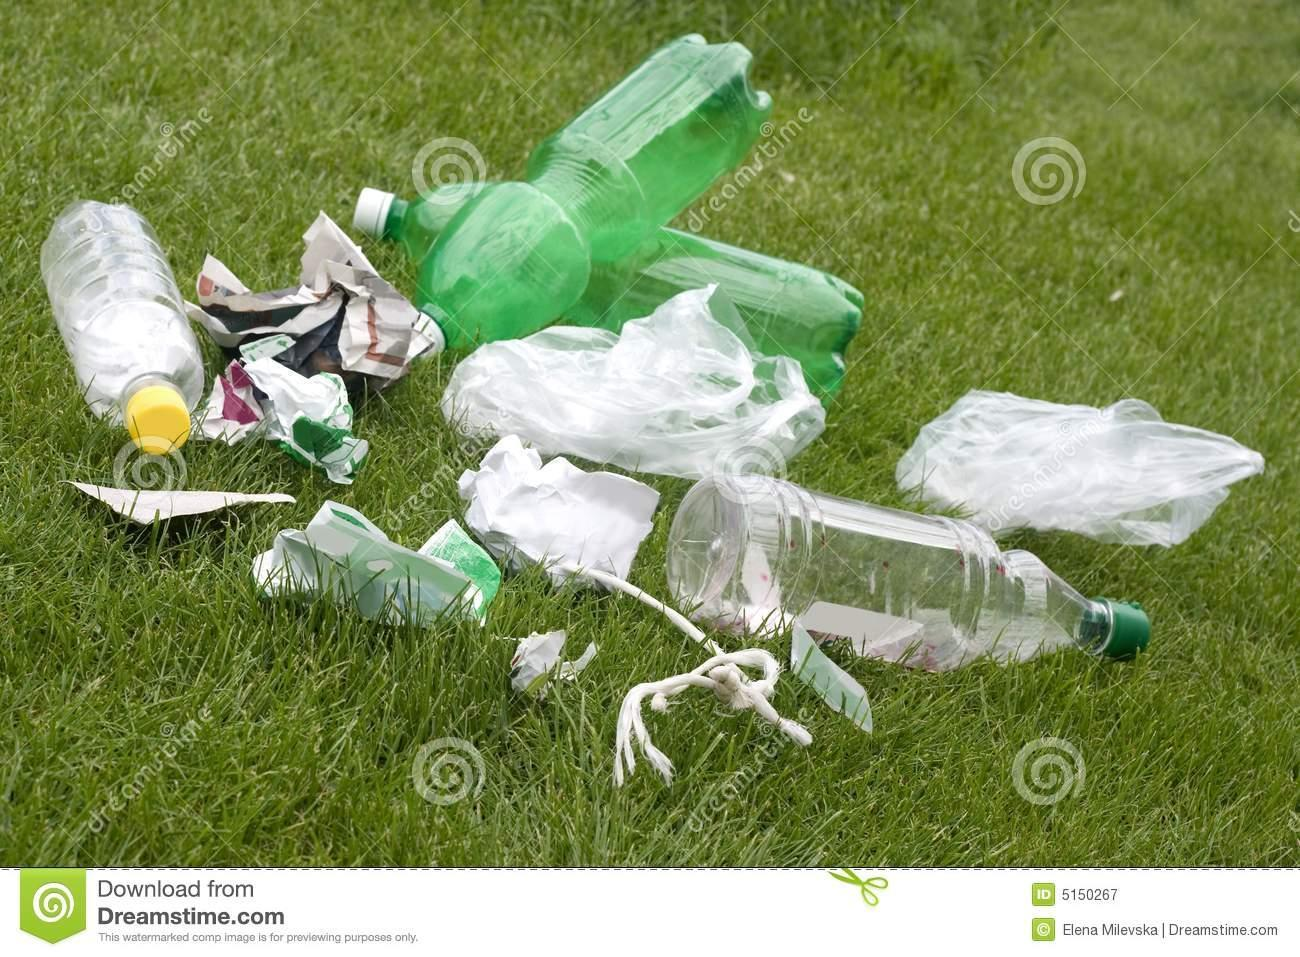bottle: (375, 8, 832, 358), (652, 448, 1184, 736), (334, 58, 907, 131), (24, 288, 208, 364)
